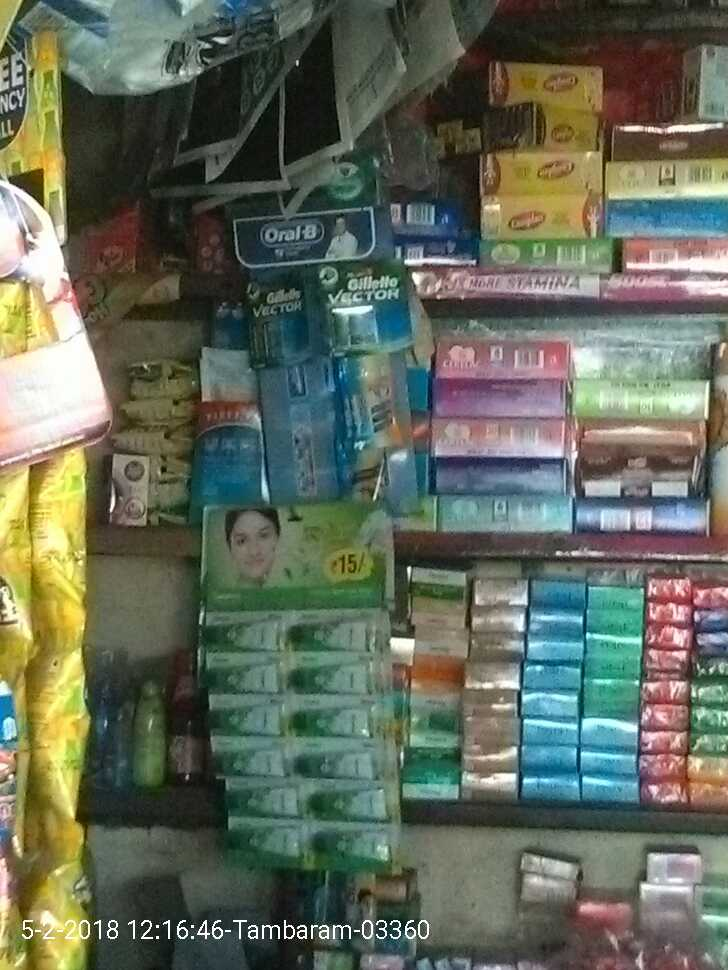gillette: (311, 264, 413, 355), (242, 272, 318, 372)
